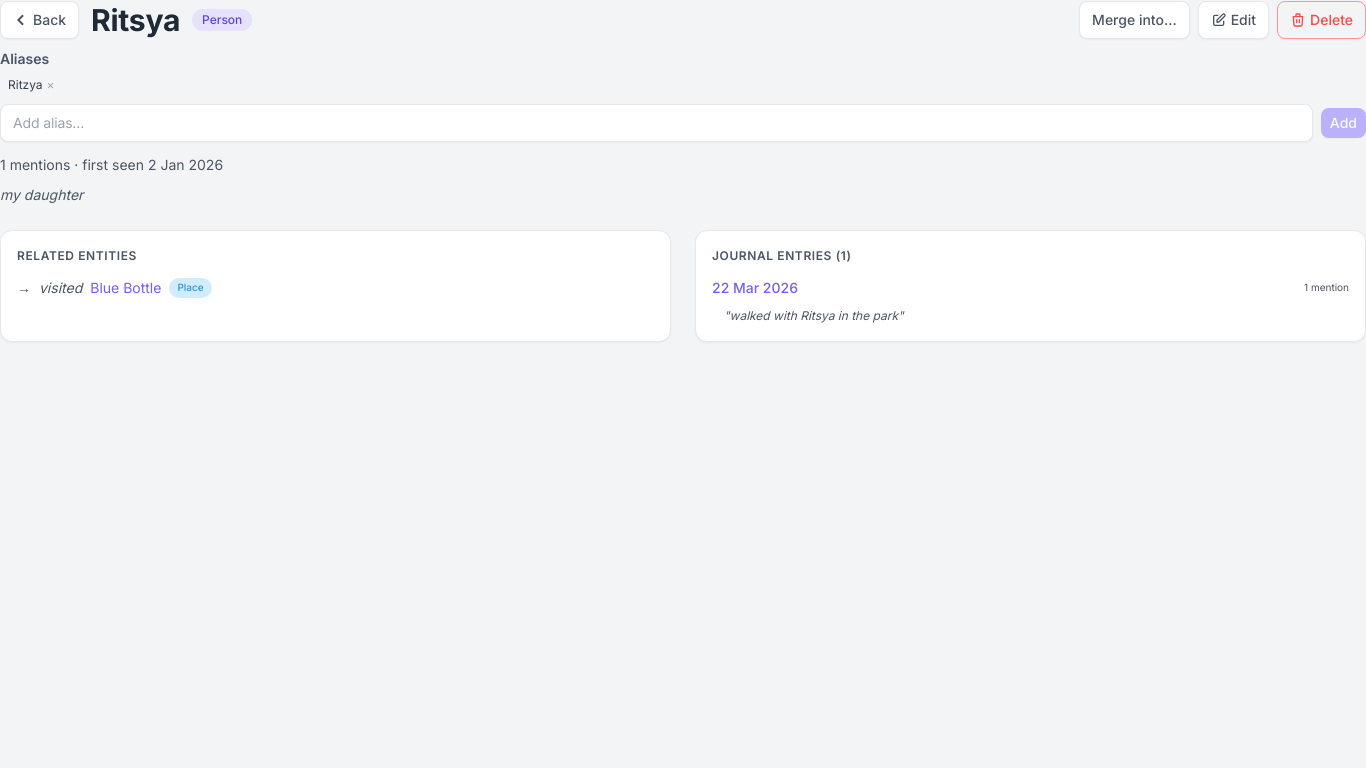
Test: EntityDetailView › alias editing › clicking "Merge into…" opens the merge-into dialog
The image size is (1366, 768).
Click the button with test id "merge-into-button".
click(1134, 20)  # box [1079,1,1190,39]
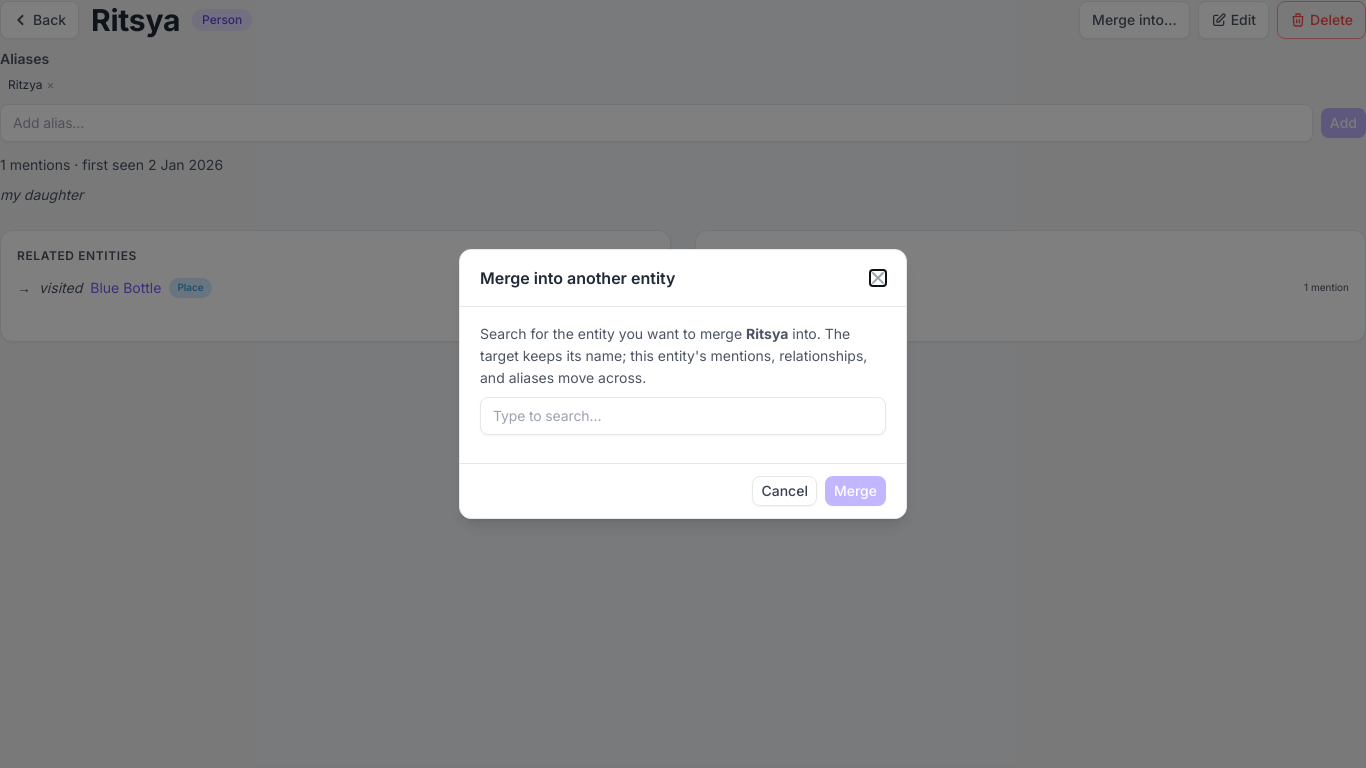
Check: the element with test id "merge-into-dialog" is shown, box [480,323,886,447]
